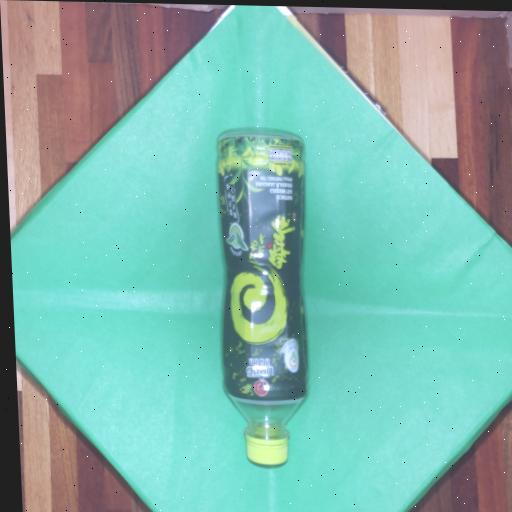bottle: (204, 130, 320, 471)
